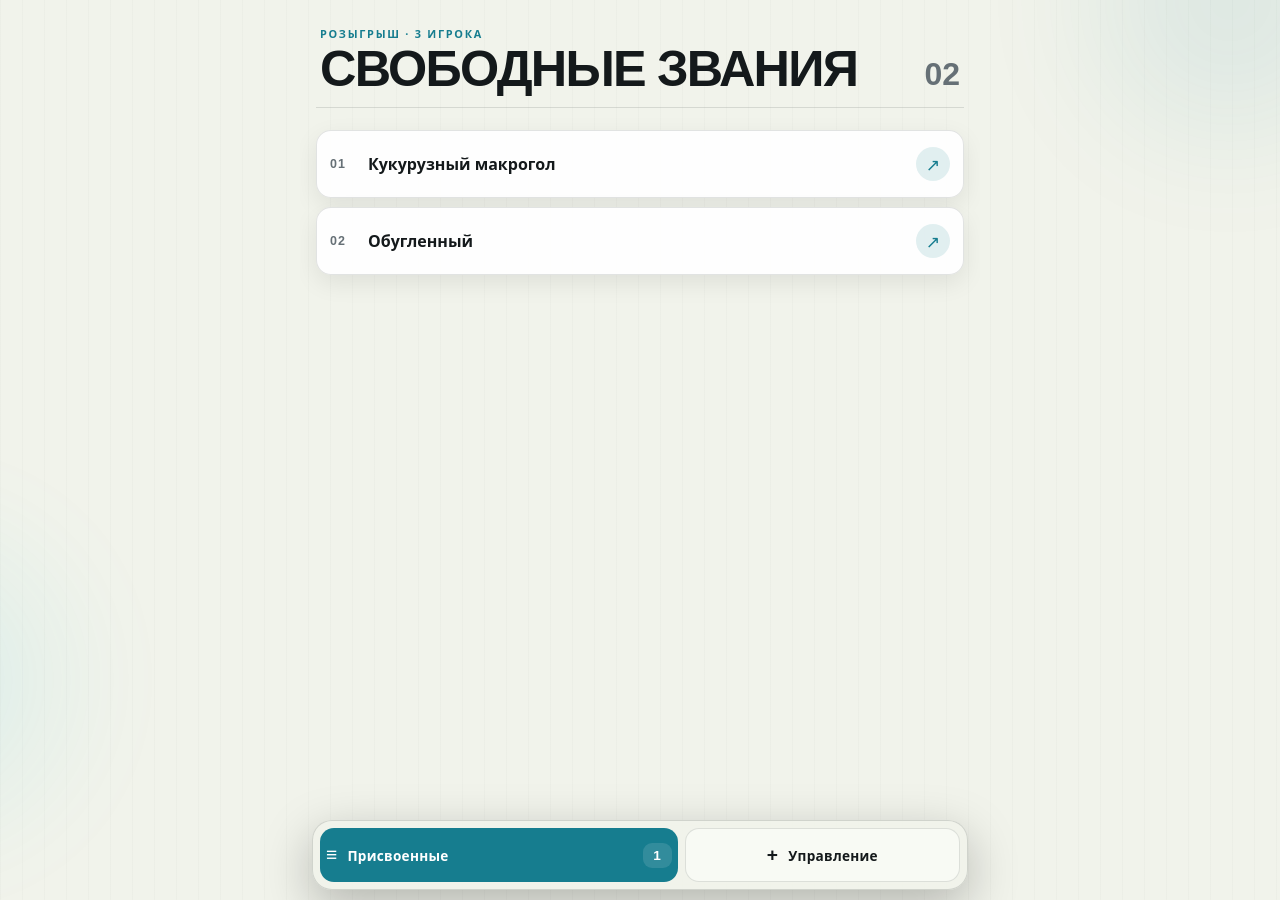
Test: rank management › creates a rank from the management screen
This screenshot has width=1280, height=900.
Step 1. Click the button with aria-label "Управление званиями" → (822, 855), box [685, 828, 960, 882]
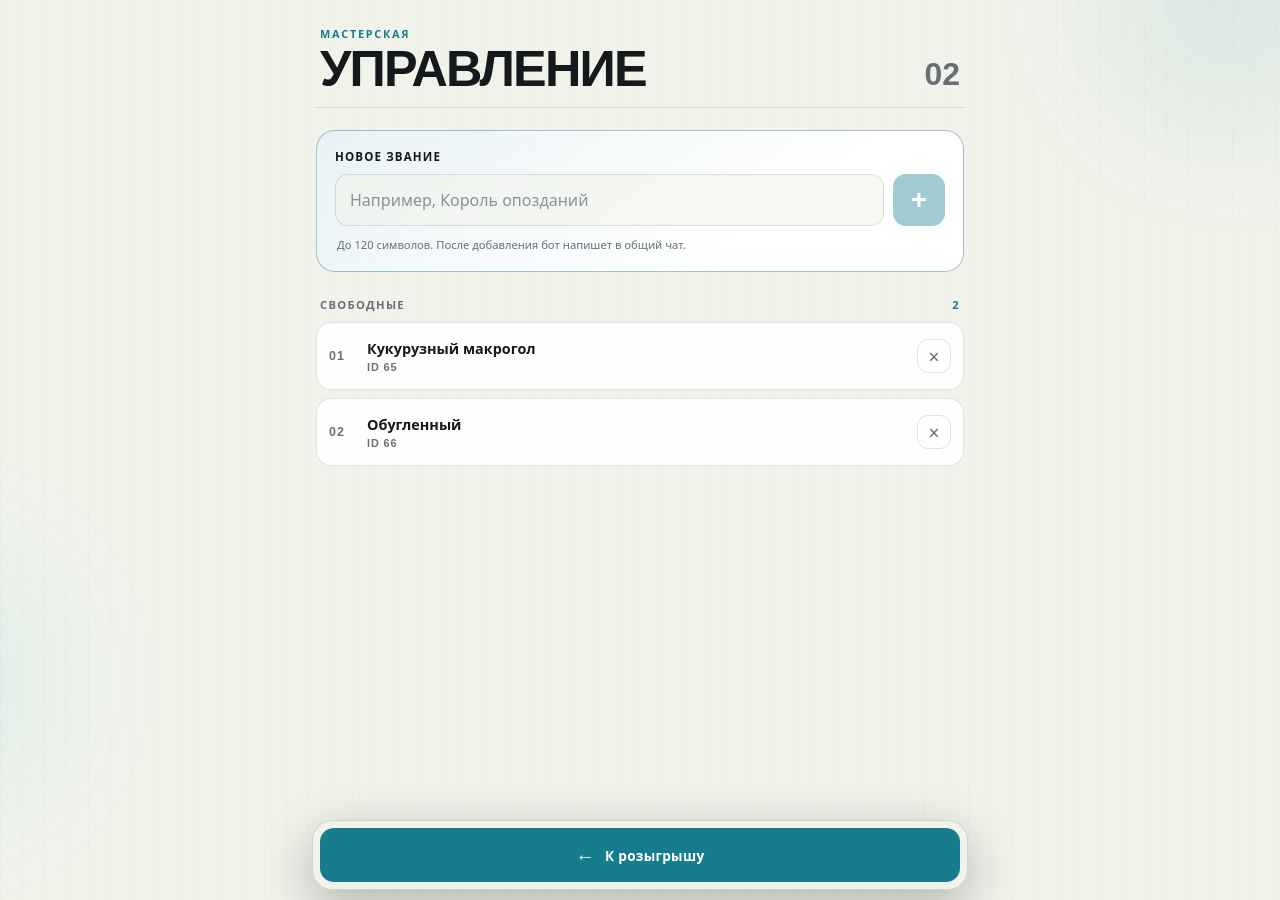
Step 2. Type "  Повелитель тапок  " into the field labelled "Новое звание" → (610, 200), box [335, 174, 884, 226]
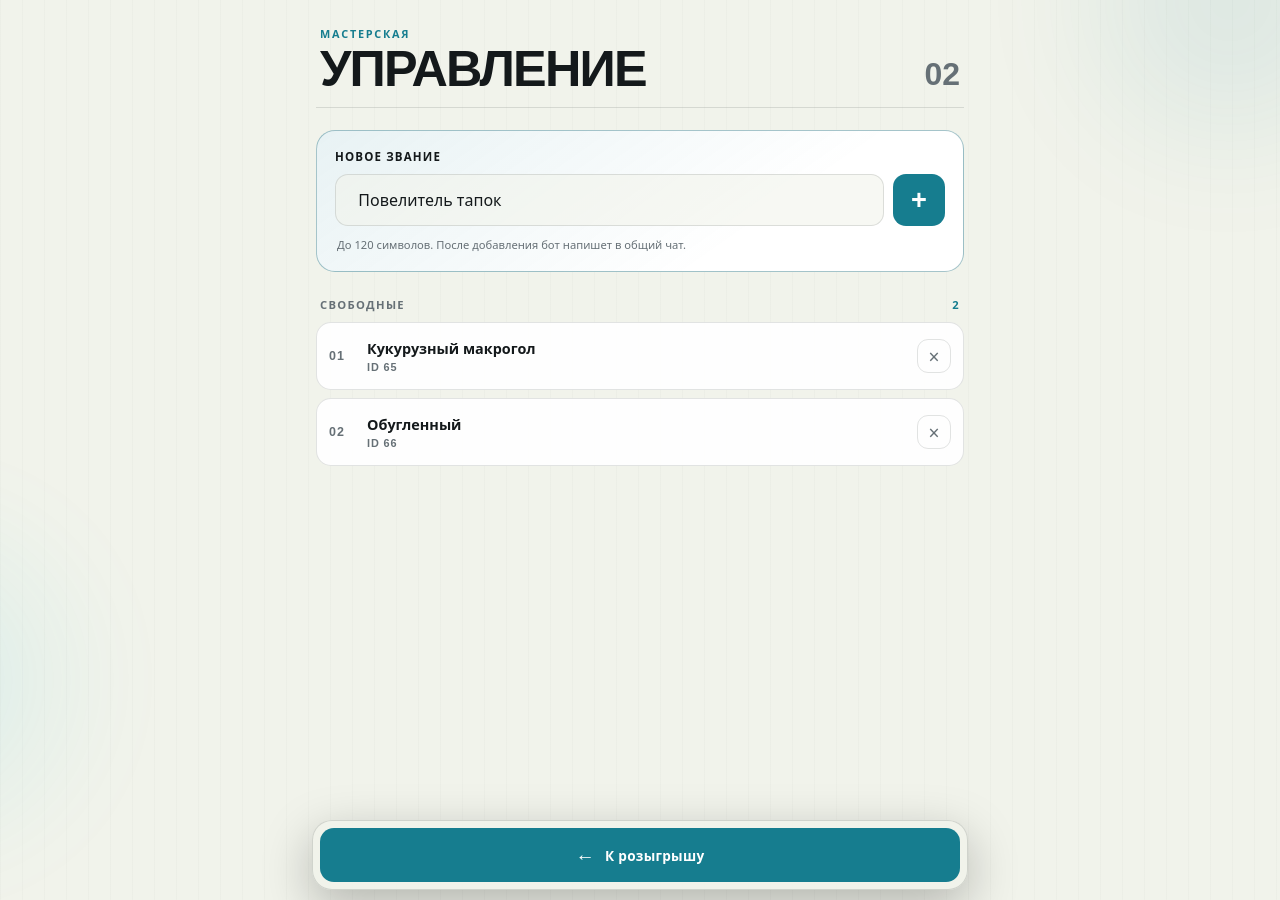
Step 3. Click the button named "Добавить звание" → (919, 200), box [893, 174, 945, 226]
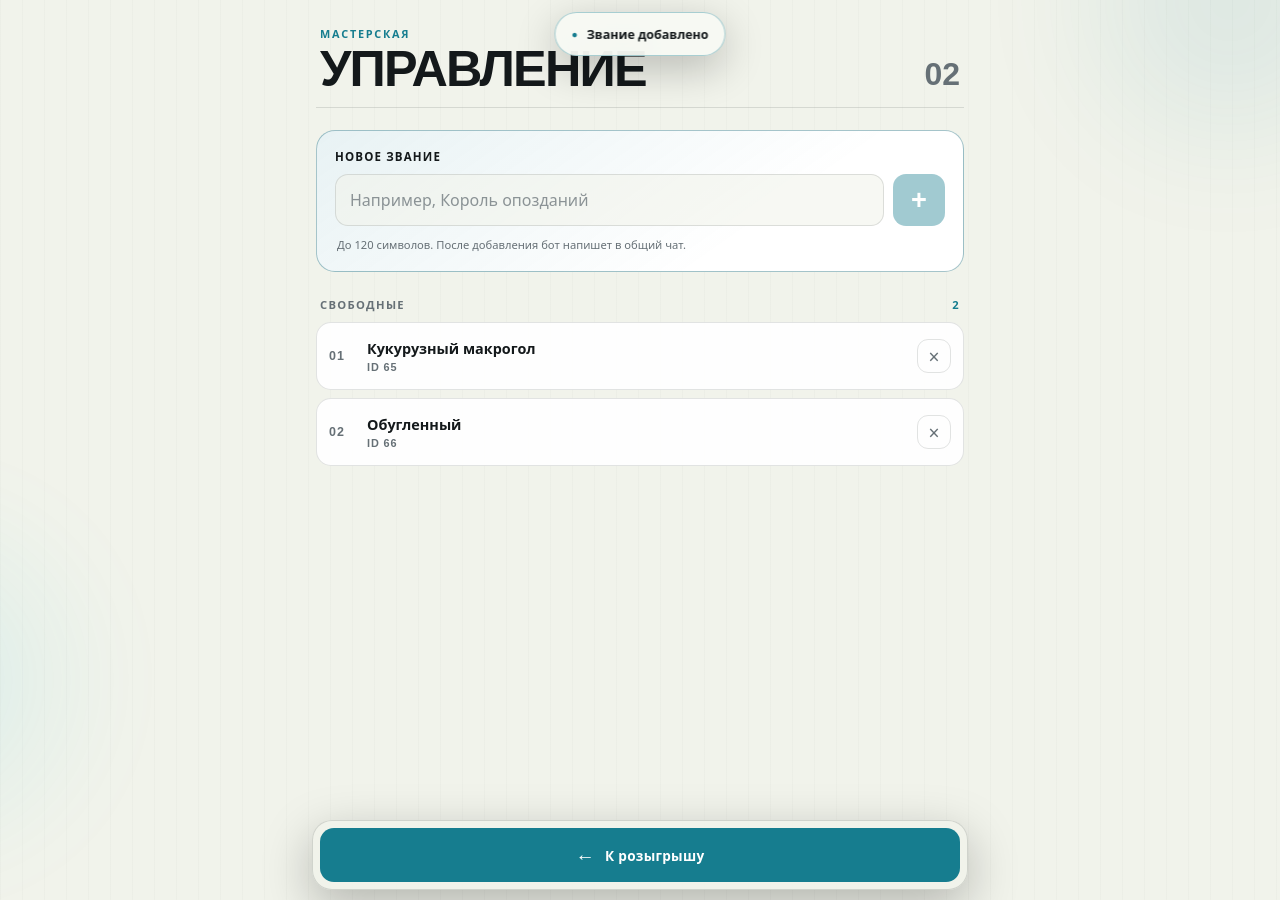
Check: the text "Звание добавлено" is shown, box [587, 26, 708, 42]
